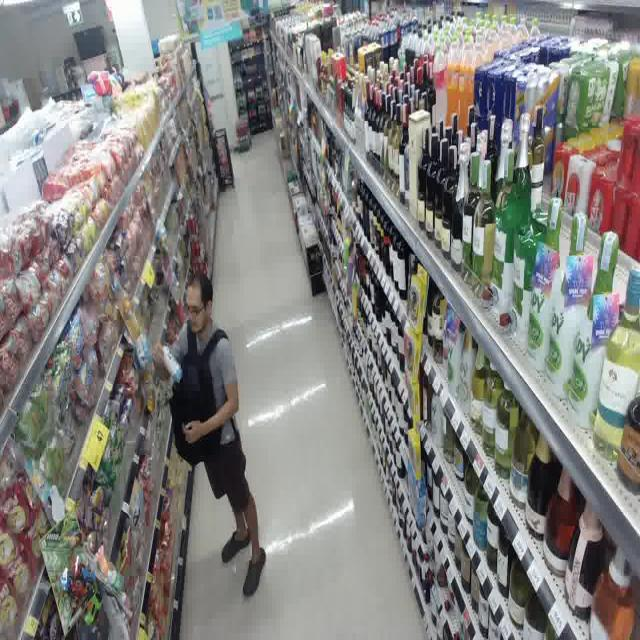pickup: (143, 247, 286, 611)
